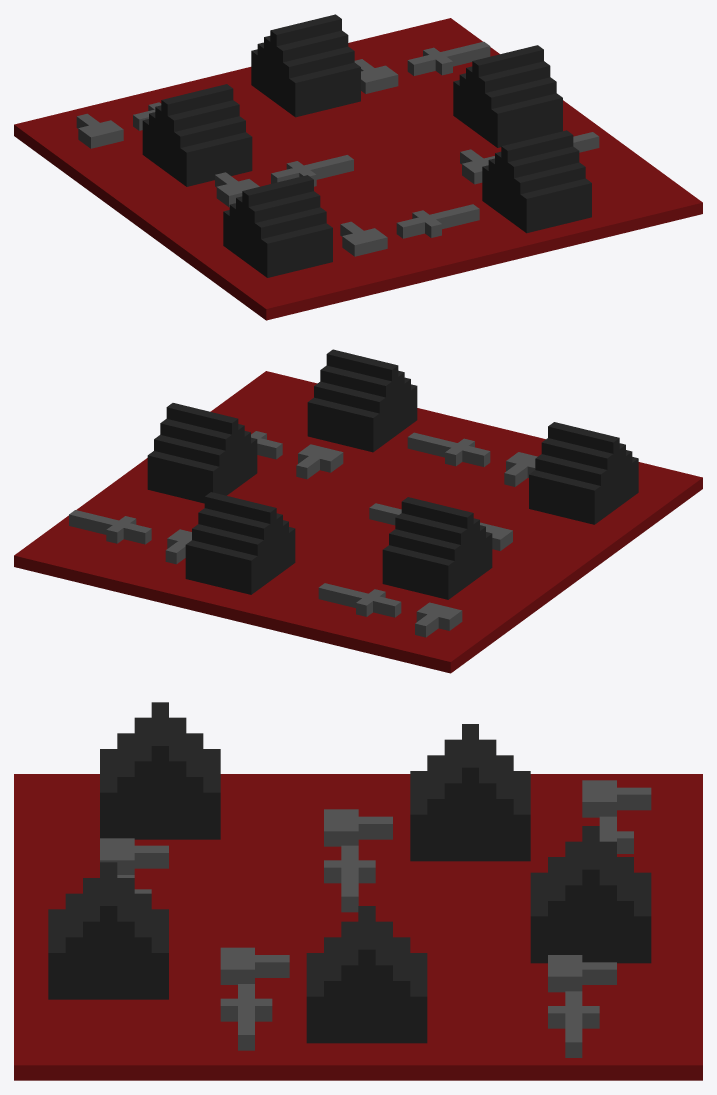
The model's file is EnemyCamp.obj.
3 renders of one model, top to bottom at view 1: azimuth 30°, elevation 25°; view 2: azimuth 150°, elevation 25°; view 3: azimuth 270°, elevation 25°, orthographic. The views are drawn at different scales.
Size of the model in its own units: 4 by 0.7 by 4.
1 material, 1 textured.
